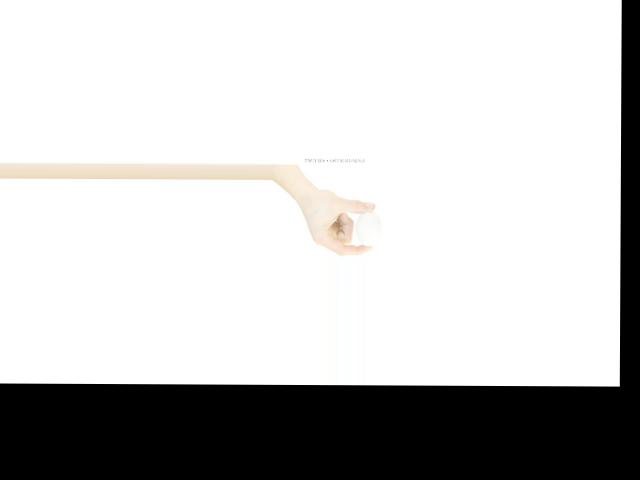egg: (355, 211, 380, 246)
